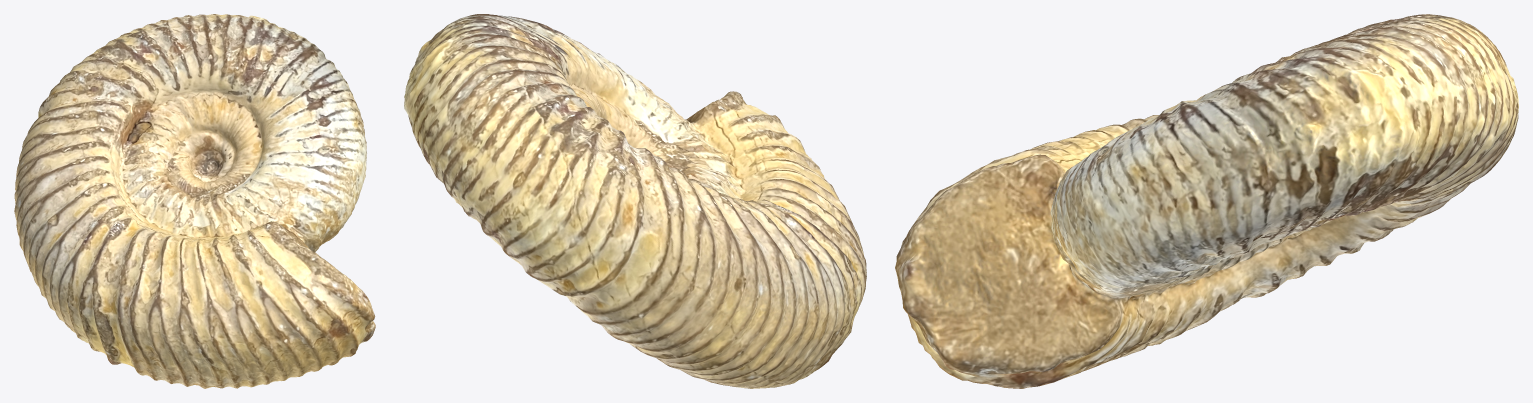
The model's file is ammonite1.glb.
3 renders of one model, left to right at view 1: azimuth 30°, elevation 25°; view 2: azimuth 150°, elevation 25°; view 3: azimuth 270°, elevation 25°, orthographic. The views are drawn at different scales.
Parts seen in each view (by area): view 1: Object_2; view 2: Object_2; view 3: Object_2.
Part boxes in pixels (left/top/right/bottom): Object_2: left=14, top=14, right=375, bottom=388; Object_2: left=404, top=14, right=866, bottom=388; Object_2: left=895, top=14, right=1518, bottom=388.
Bounding box in the file's own units: 0.1661 × 0.1397 × 0.2.
1 material, 1 textured.
